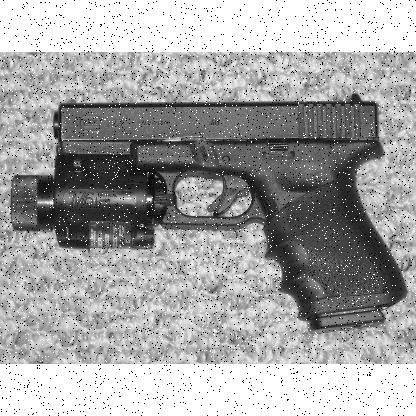gun: (10, 92, 408, 334)
